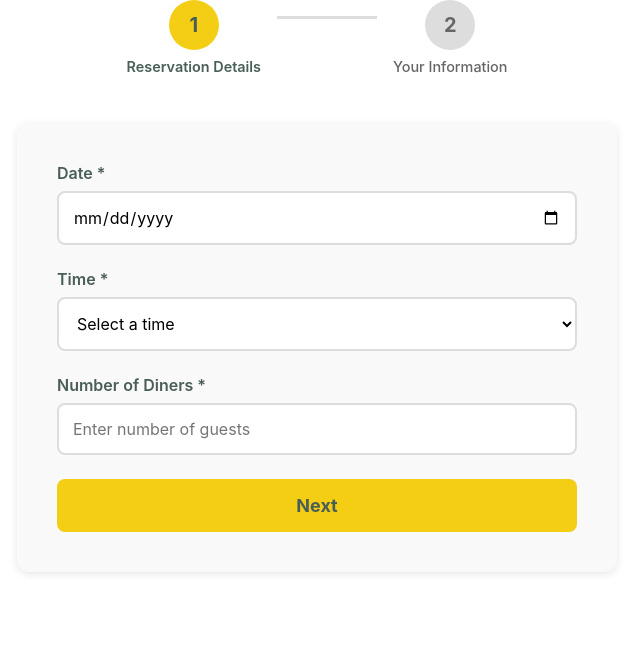
Test: BookingForm Component › Step 1 - Reservation Details Validation › shows error when submitting empty form
Click the button "Next".
click(317, 506)  # box [57,479,577,532]
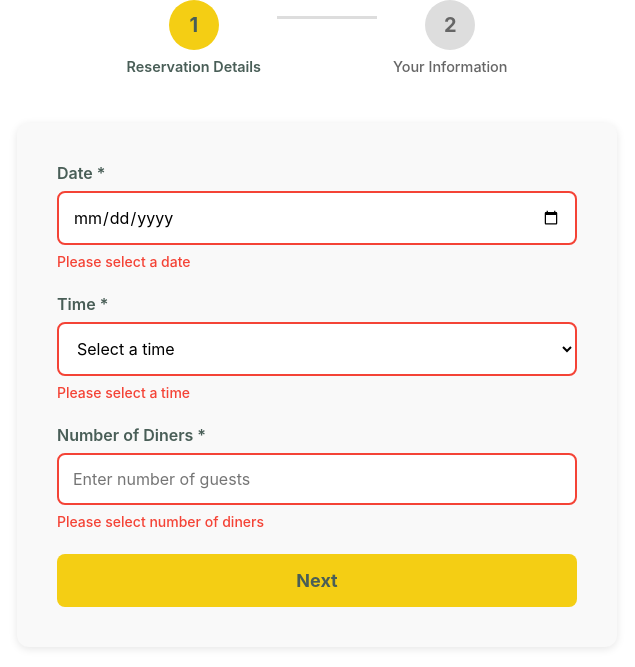
Check: the text "Please select a date" is shown, box [57,253,190,270]
Check: the text "Please select a time" is shown, box [57,384,190,401]
Check: the text "Please select number of diners" is shown, box [57,513,264,530]
